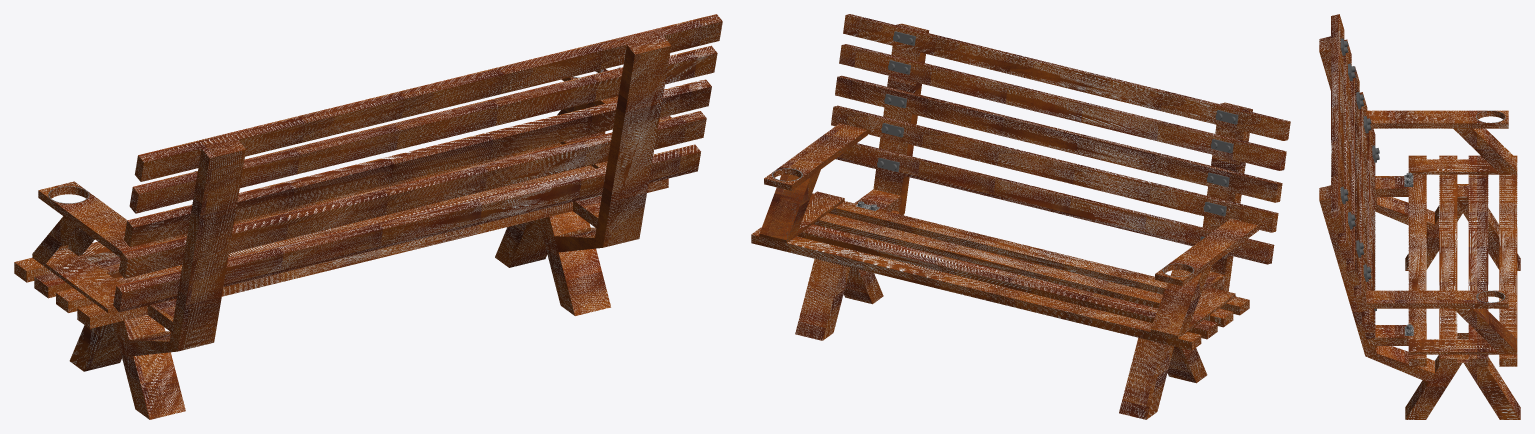
3 views of the same model, side by side, from view 1: azimuth 30°, elevation 25°; view 2: azimuth 150°, elevation 25°; view 3: azimuth 270°, elevation 25° (orthographic). The views are drawn at different scales.
Visible parts, largest first — view 1: mesh7_mesh7-geometry; view 2: mesh7_mesh7-geometry, mesh1_mesh1-geometry; view 3: mesh7_mesh7-geometry, mesh1_mesh1-geometry.
Part boxes in pixels (x1,y1,x2,y2): mesh7_mesh7-geometry: [14, 14, 722, 419]; mesh7_mesh7-geometry: [751, 14, 1290, 419]; mesh1_mesh1-geometry: [877, 31, 1238, 240]; mesh7_mesh7-geometry: [1319, 14, 1520, 419]; mesh1_mesh1-geometry: [1340, 38, 1379, 311].
Bounding box in the file's own units: 0.8328 × 0.4294 × 0.3494.
